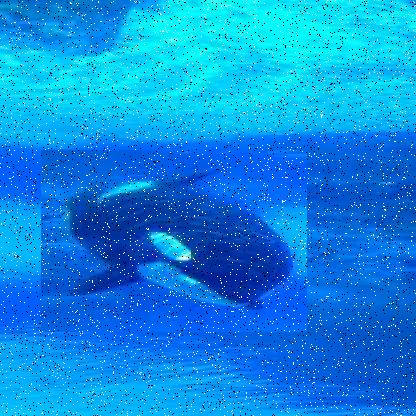killer_whale: (40, 149, 307, 332)
